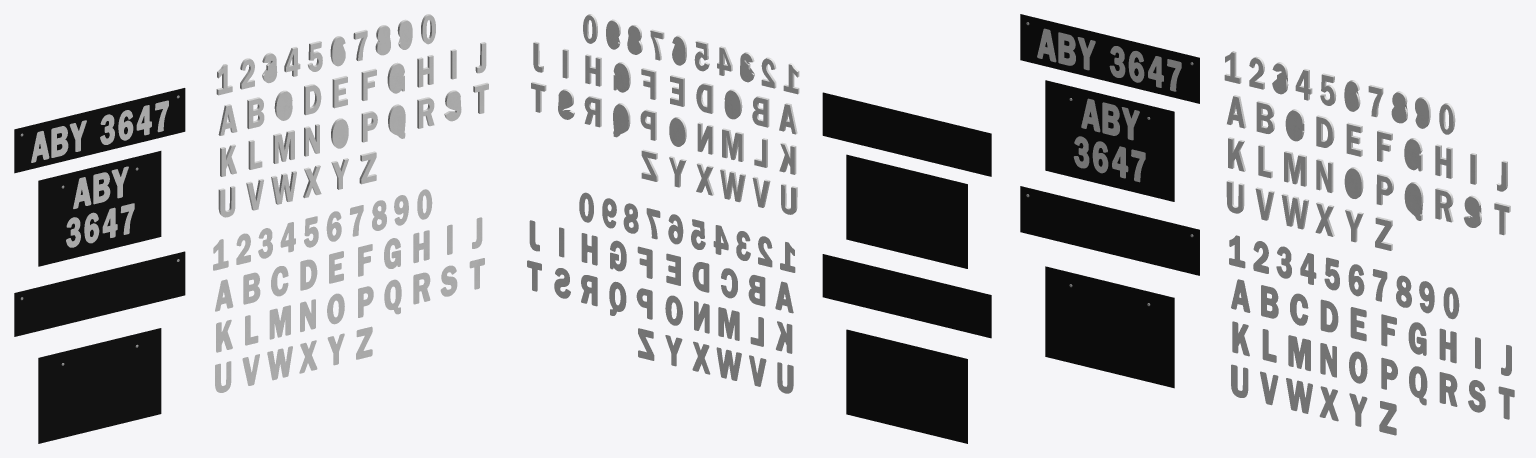
File: Alphabet and number with car plate.fbx
The picture shows the model from 3 angles, left to right: view 1: azimuth 30°, elevation 25°; view 2: azimuth 150°, elevation 25°; view 3: azimuth 330°, elevation 25°; orthographic projection. The views are drawn at different scales.
Visible parts, largest first — view 1: NumberPlateTwoRow, SampleNumberPlateTwoRow, NumberPlateOneRow, SampleNumberPlateOneRow, M, DecalAlphabet_M, W, DecalAlphabet_W, Q, G, B, C; view 2: NumberPlateTwoRow, SampleNumberPlateTwoRow, NumberPlateOneRow, SampleNumberPlateOneRow, M, DecalAlphabet_M, W, DecalAlphabet_W, Q, G, B; view 3: NumberPlateTwoRow, SampleNumberPlateTwoRow, NumberPlateOneRow, SampleNumberPlateOneRow, M, DecalAlphabet_M, W, DecalAlphabet_W, Q, G, B, C (+5 smaller).
Boxes of the visible parts, box(x1,y1,x2,y2) form: NumberPlateTwoRow: box(38, 328, 161, 443); SampleNumberPlateTwoRow: box(38, 151, 161, 266); NumberPlateOneRow: box(14, 251, 185, 336); SampleNumberPlateOneRow: box(14, 88, 185, 173); M: box(273, 130, 294, 163); DecalAlphabet_M: box(269, 305, 290, 339); W: box(271, 170, 296, 204); DecalAlphabet_W: box(267, 346, 292, 380); Q: box(388, 104, 405, 138); G: box(387, 62, 404, 93); B: box(247, 97, 264, 128); C: box(274, 90, 292, 120); NumberPlateTwoRow: box(846, 329, 967, 443); SampleNumberPlateTwoRow: box(846, 154, 967, 268); NumberPlateOneRow: box(822, 254, 991, 338); SampleNumberPlateOneRow: box(822, 92, 991, 176); M: box(722, 128, 743, 161); DecalAlphabet_M: box(718, 307, 739, 340); W: box(720, 168, 745, 202); DecalAlphabet_W: box(716, 347, 741, 380); Q: box(613, 103, 630, 137); G: box(613, 62, 630, 92); B: box(752, 96, 769, 127); NumberPlateTwoRow: box(1045, 266, 1174, 388); SampleNumberPlateTwoRow: box(1045, 80, 1174, 201); NumberPlateOneRow: box(1020, 186, 1199, 275); SampleNumberPlateOneRow: box(1020, 14, 1199, 103); M: box(1284, 151, 1306, 186); DecalAlphabet_M: box(1288, 335, 1310, 370); W: box(1281, 193, 1308, 229); DecalAlphabet_W: box(1286, 378, 1312, 413); Q: box(1404, 182, 1423, 220); G: box(1404, 138, 1422, 171); B: box(1256, 100, 1274, 133); C: box(1285, 109, 1304, 141).
Size of the model in its own units: 84.61 by 57.22 by 1.5.
